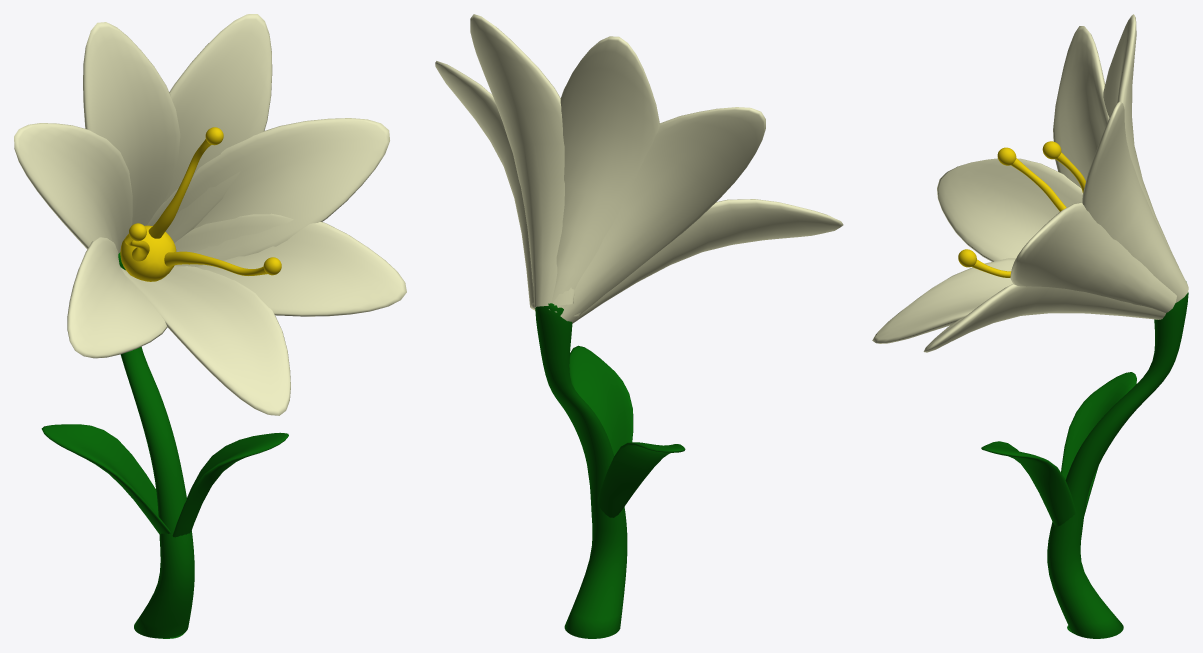
File: Flower_PrimBlock_1 (1).fbx
The picture shows the model from 3 angles, left to right: view 1: azimuth 30°, elevation 25°; view 2: azimuth 150°, elevation 25°; view 3: azimuth 270°, elevation 25°; orthographic projection. The views are drawn at different scales.
Parts seen in each view (by area): view 1: Flower; view 2: Flower; view 3: Flower.
Part boxes in pixels (x1,y1,x2,y2): Flower: (14,14,406,638); Flower: (435,14,843,638); Flower: (872,14,1188,638).
Bounding box in the file's own units: 0.5644 × 0.9067 × 0.4396.
